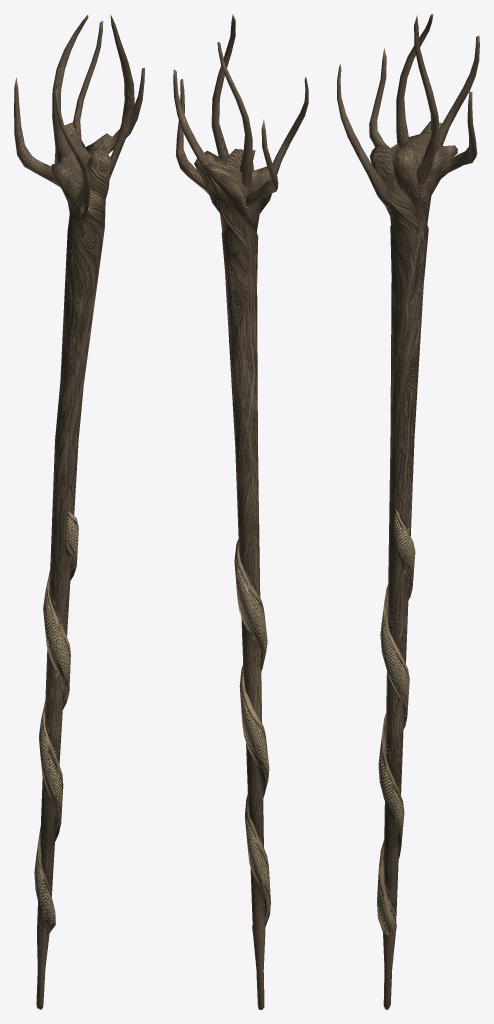
File: w_staff_grip_t1.glb
3 views of the same model, side by side, from view 1: azimuth 30°, elevation 25°; view 2: azimuth 150°, elevation 25°; view 3: azimuth 330°, elevation 25° (orthographic). The views are drawn at different scales.
Visible parts, largest first — view 1: StaffNovice02:0; view 2: StaffNovice02:0; view 3: StaffNovice02:0.
Part boxes in pixels (box(x1,y1,x2,y2)): StaffNovice02:0: box(14, 15, 144, 1009); StaffNovice02:0: box(173, 14, 308, 1009); StaffNovice02:0: box(337, 14, 479, 1009).
Bounding box in the file's own units: 14.15 × 119 × 11.95.
1 material, 1 textured.
